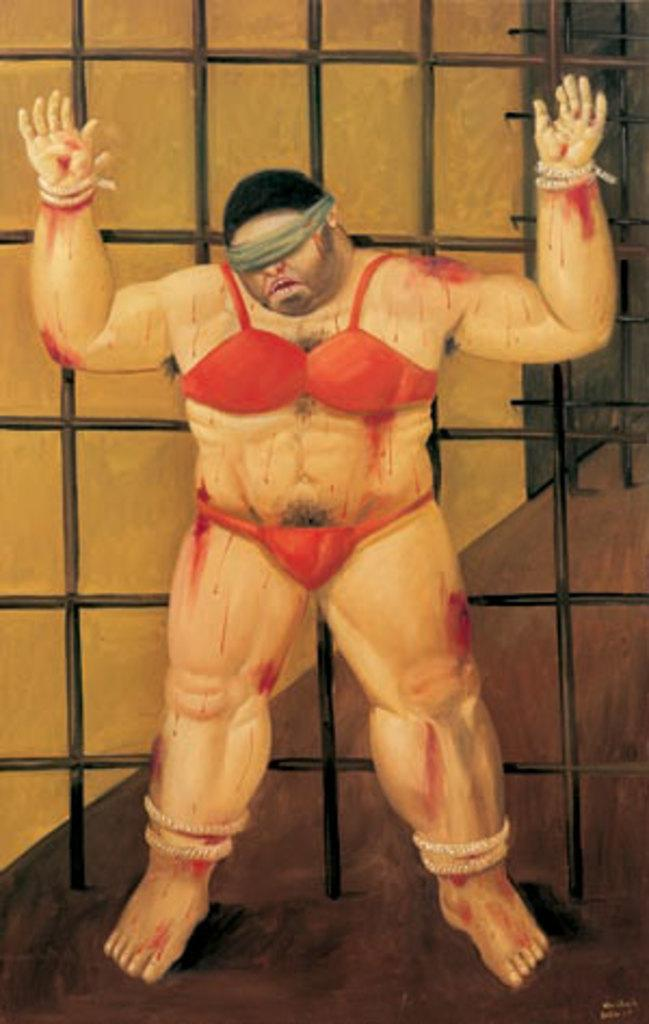Sem Máscara: (223, 212, 326, 301)
